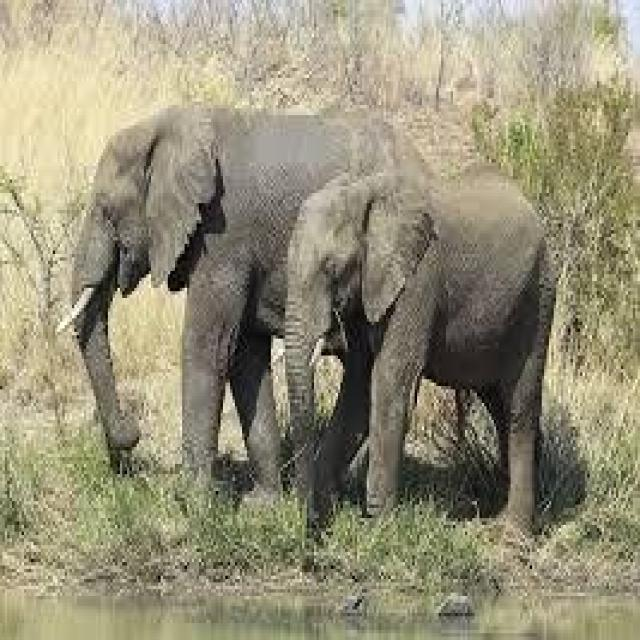Elephant: (60, 102, 556, 511), (276, 163, 549, 528)
